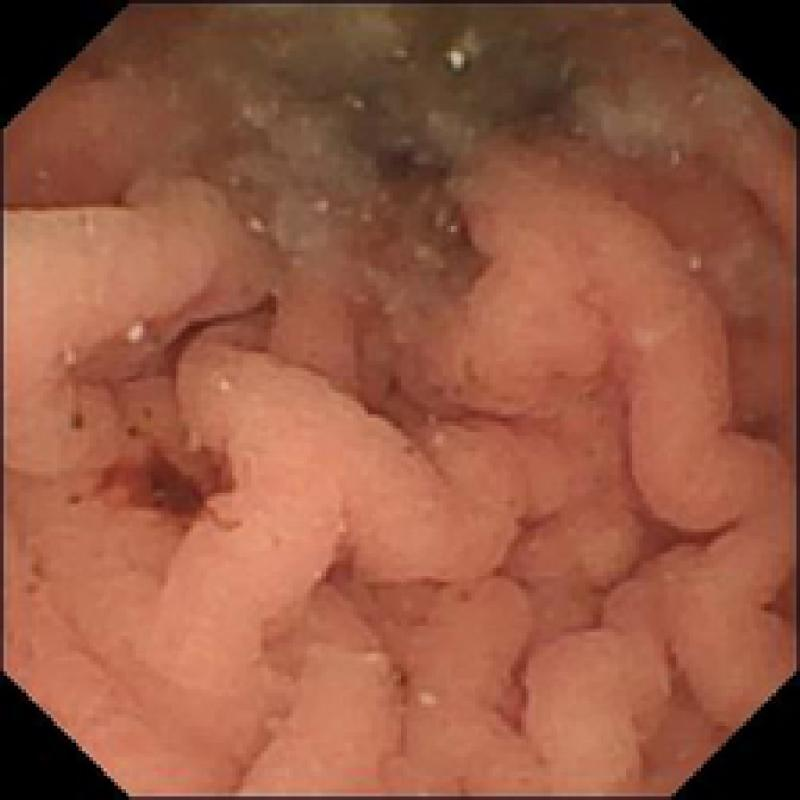bleeding: (82, 432, 239, 518)
